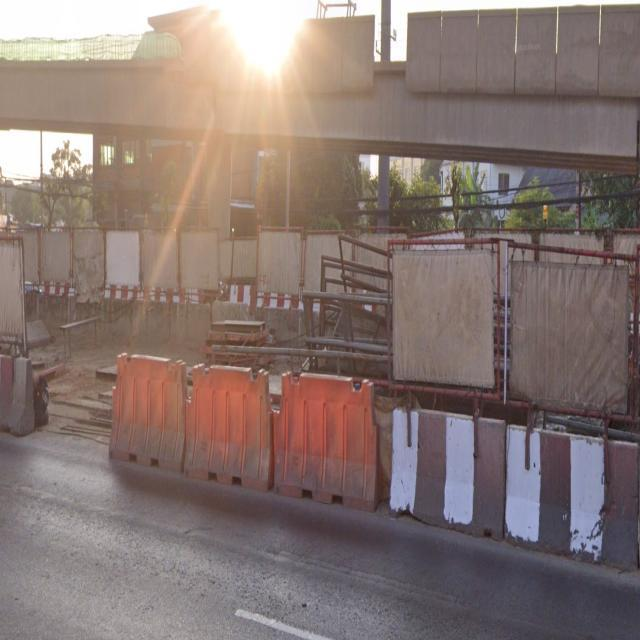fallen_object: (370, 393, 521, 566), (504, 404, 640, 593), (260, 355, 387, 523), (90, 323, 198, 491), (182, 349, 285, 510), (0, 330, 61, 444)
